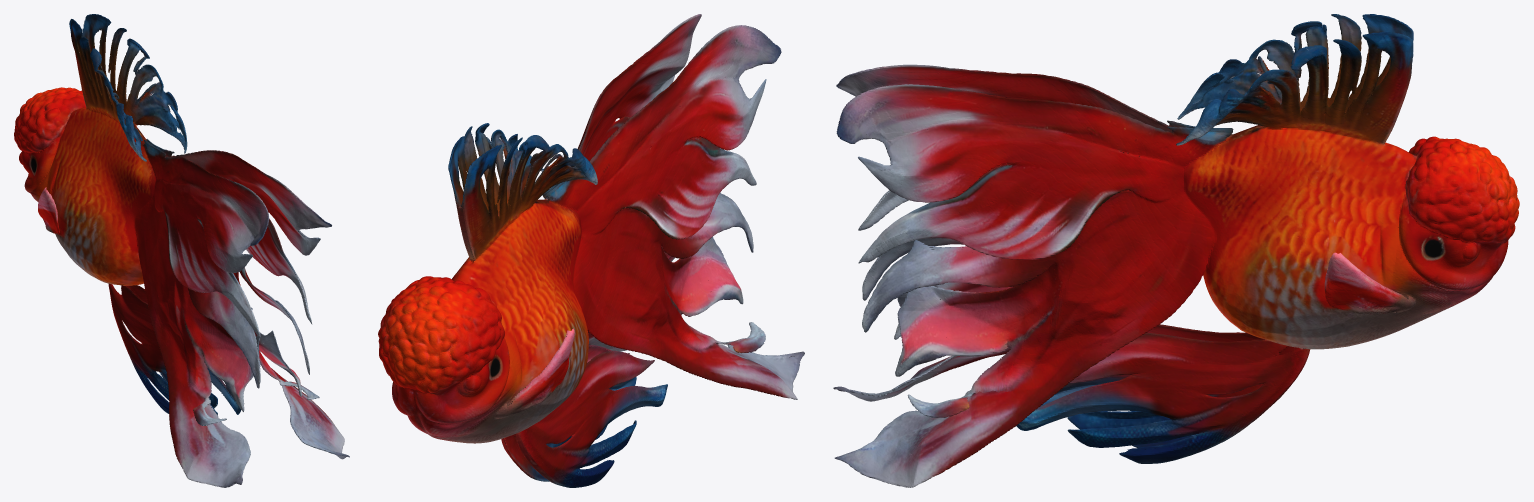
Rendered from goldfish.glb.
3 views of the same model, side by side, from view 1: azimuth 30°, elevation 25°; view 2: azimuth 150°, elevation 25°; view 3: azimuth 270°, elevation 25° (orthographic). The views are drawn at different scales.
Visible parts, largest first — view 1: tripo_node_3ea3d9da-a55a-449a-9786-038e1bbe8970; view 2: tripo_node_3ea3d9da-a55a-449a-9786-038e1bbe8970; view 3: tripo_node_3ea3d9da-a55a-449a-9786-038e1bbe8970.
Boxes of the visible parts, bbox=[...] form: tripo_node_3ea3d9da-a55a-449a-9786-038e1bbe8970: bbox=[14, 14, 349, 487]; tripo_node_3ea3d9da-a55a-449a-9786-038e1bbe8970: bbox=[378, 14, 804, 487]; tripo_node_3ea3d9da-a55a-449a-9786-038e1bbe8970: bbox=[833, 14, 1519, 487].
Size of the model in its own units: 0.3527 by 0.6973 by 1.
1 material, 1 textured.
